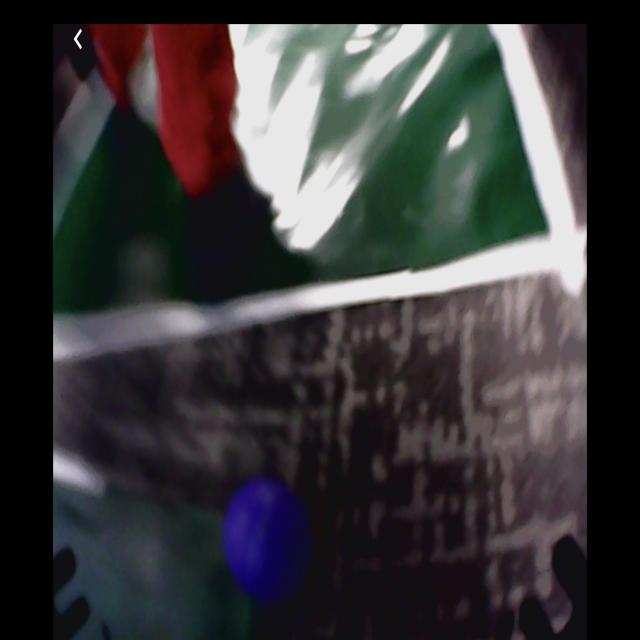ball: (227, 482, 306, 601)
